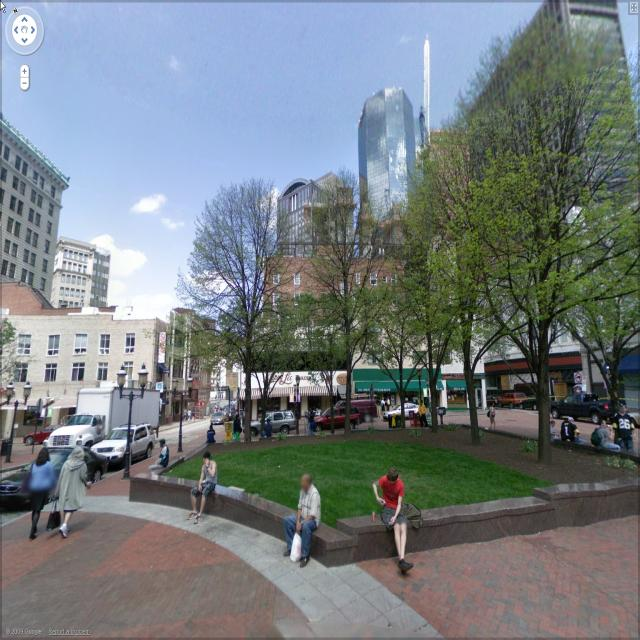b_1: (1, 309, 177, 437), (0, 102, 68, 304), (355, 78, 419, 220), (41, 239, 118, 314)
b_2: (468, 17, 640, 212), (232, 323, 486, 440), (473, 213, 595, 430), (325, 311, 487, 421), (577, 202, 640, 405), (254, 247, 412, 325), (429, 99, 474, 253)
